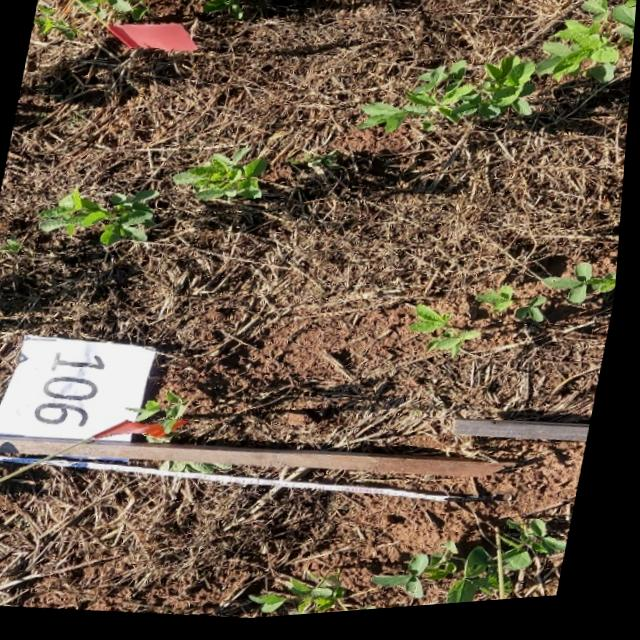soy_plant: (359, 0, 638, 138), (381, 530, 575, 611), (42, 191, 155, 246), (175, 152, 268, 204), (259, 582, 383, 621), (416, 311, 483, 362), (552, 272, 621, 312), (144, 393, 193, 444), (480, 294, 551, 328), (72, 0, 146, 24), (33, 5, 78, 40), (203, 0, 262, 21), (169, 465, 235, 477)
